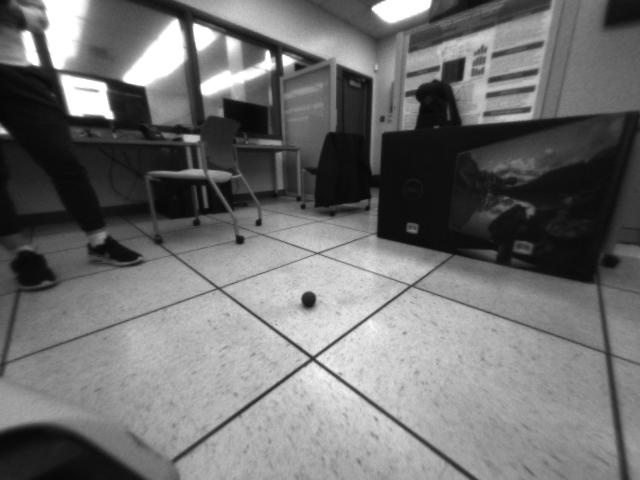dogtoy: (293, 282, 322, 315)
